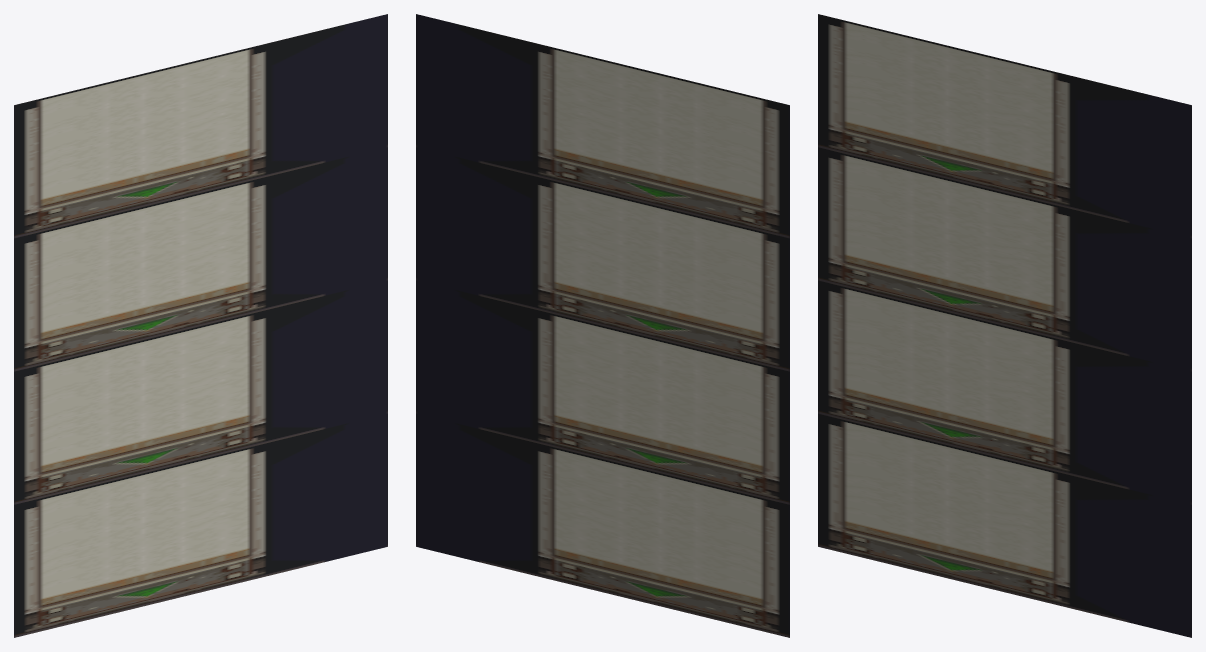
File: OBJ_Editor_StairsCap_RD.glb
The picture shows the model from 3 angles, left to right: view 1: azimuth 30°, elevation 25°; view 2: azimuth 150°, elevation 25°; view 3: azimuth 330°, elevation 25°; orthographic projection.
Visible parts, largest first — view 1: Renderer, Renderer (1), Renderer (2), Renderer (3); view 2: Renderer, Renderer (1), Renderer (2), Renderer (3); view 3: Renderer, Renderer (1), Renderer (2), Renderer (3).
Boxes of the visible parts, left/top/right/bottom form: Renderer: left=14, top=413, right=387, bottom=637; Renderer (1): left=14, top=280, right=387, bottom=504; Renderer (2): left=14, top=147, right=387, bottom=371; Renderer (3): left=14, top=14, right=387, bottom=238; Renderer: left=416, top=413, right=789, bottom=637; Renderer (1): left=416, top=280, right=789, bottom=504; Renderer (2): left=416, top=147, right=789, bottom=371; Renderer (3): left=416, top=14, right=789, bottom=238; Renderer: left=818, top=413, right=1191, bottom=637; Renderer (1): left=818, top=280, right=1191, bottom=504; Renderer (2): left=818, top=147, right=1191, bottom=371; Renderer (3): left=818, top=14, right=1191, bottom=238.
Size of the model in its own units: 2.94 by 4 by 6.12e-17.
4 materials, 4 textured.
